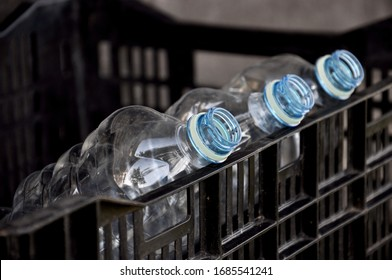plastic_bottle: (6, 88, 303, 263), (135, 44, 346, 213), (209, 19, 382, 179)
